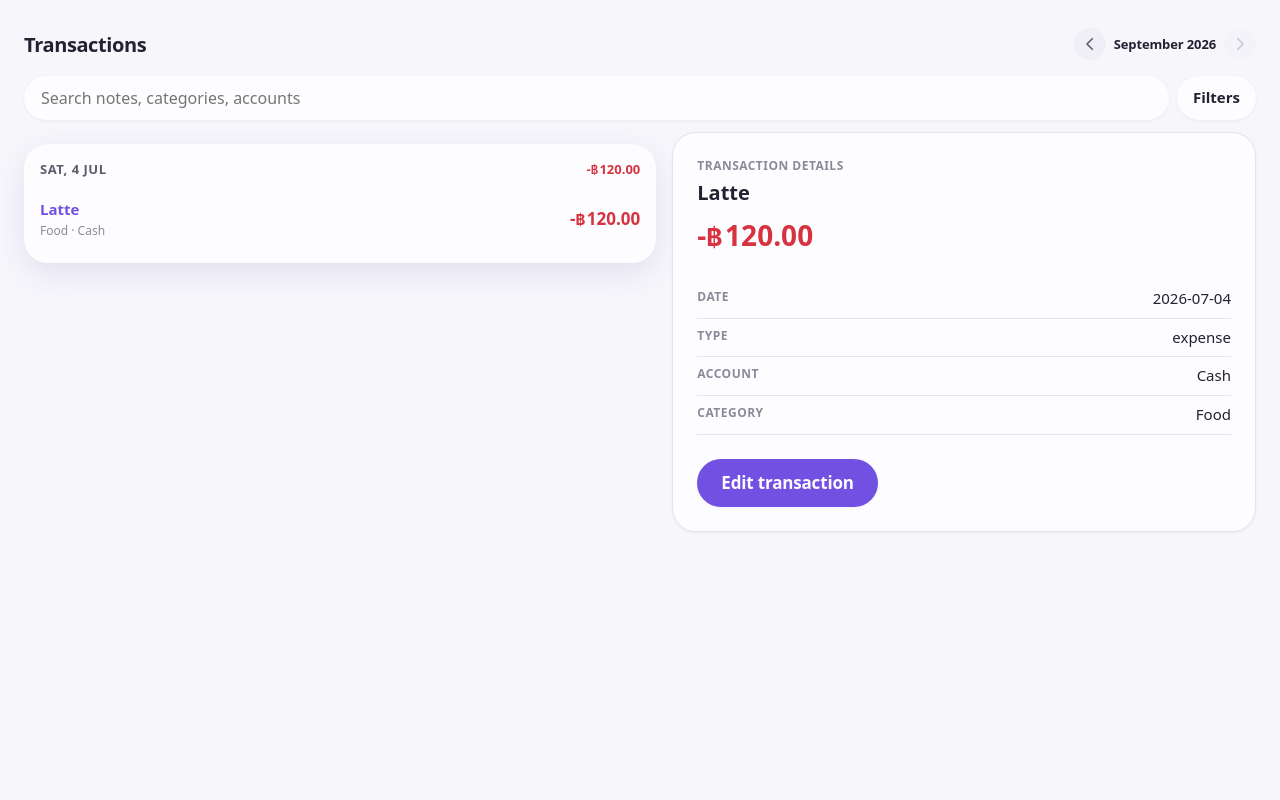
Test: TransactionsScreen › shows read-only transaction details before editing on wide screens
Check: the heading "Latte" is shown, box [697,179,750,206]
Click the button "Edit transaction": [788, 483] box [697,459,878,507]
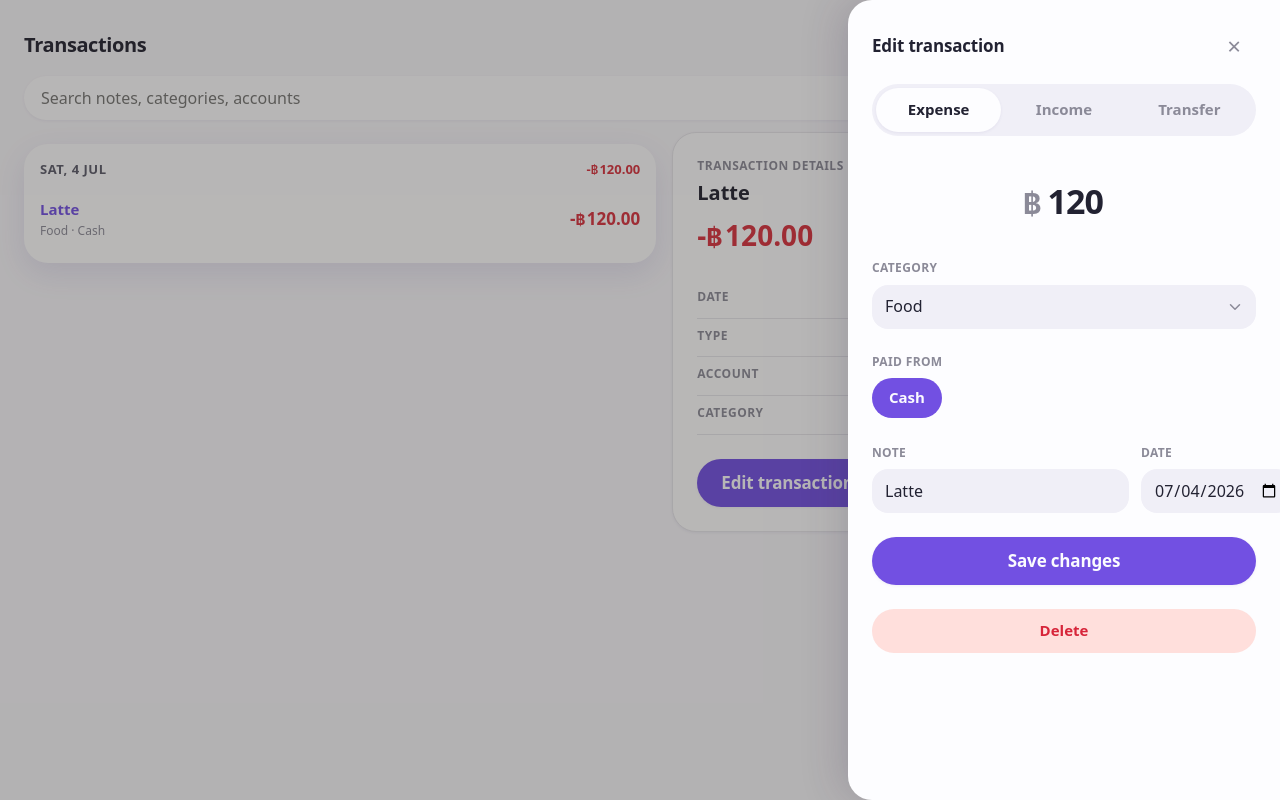
Check: the dialog "Edit transaction" is shown, box [848,0,1279,799]
